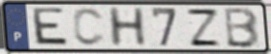7: (149, 7, 179, 49)
B: (224, 6, 262, 49)
C: (72, 7, 108, 48)
E: (32, 6, 72, 48)
H: (106, 6, 149, 49)
Z: (184, 7, 223, 48)
